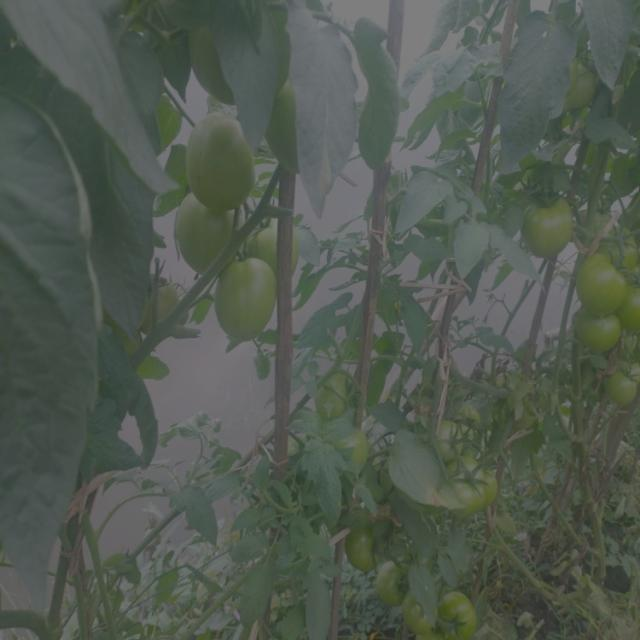tomato: (187, 108, 254, 219), (220, 257, 286, 336), (520, 189, 577, 257), (171, 210, 230, 269), (580, 249, 623, 324), (448, 463, 505, 514), (436, 591, 482, 640), (599, 357, 640, 411), (246, 211, 290, 260), (570, 313, 618, 356), (312, 369, 349, 419), (338, 431, 375, 477), (569, 60, 603, 110), (429, 419, 469, 460), (344, 522, 378, 567), (371, 562, 408, 601), (619, 279, 640, 338)
